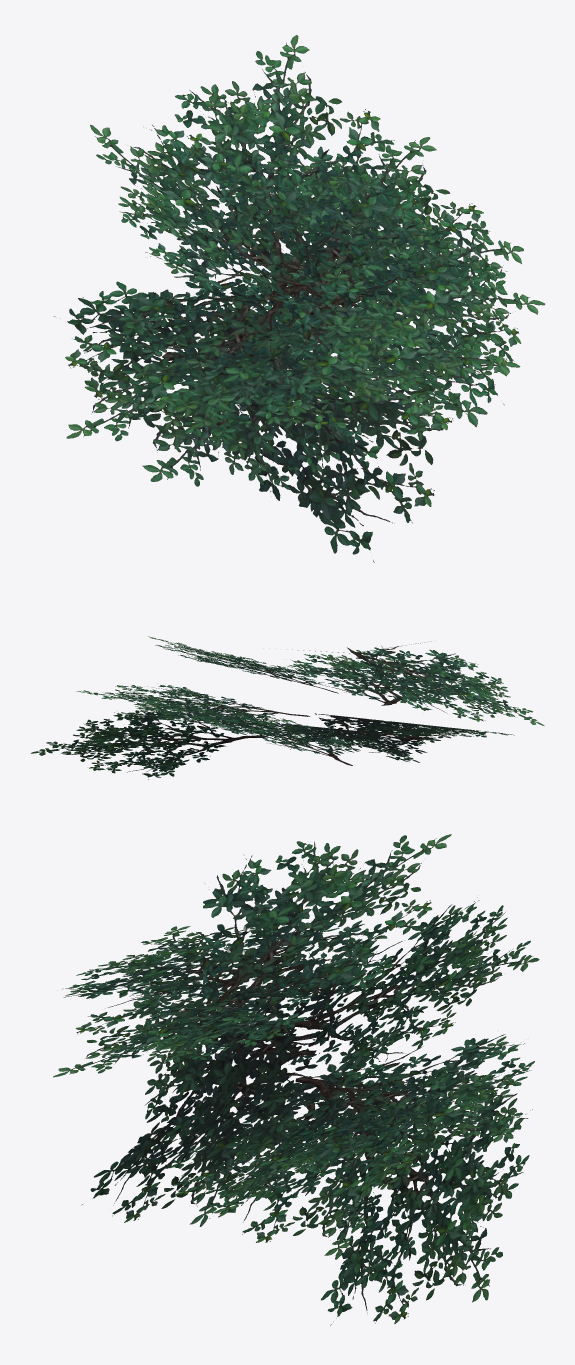
The model's file is yw_wanjiegu_dashu04.FBX.
3 renders of one model, top to bottom at view 1: azimuth 30°, elevation 25°; view 2: azimuth 150°, elevation 25°; view 3: azimuth 270°, elevation 25°, orthographic. The views are drawn at different scales.
Parts seen in each view (by area): view 1: yw_wanjiegu_dashu04; view 2: yw_wanjiegu_dashu04; view 3: yw_wanjiegu_dashu04.
Boxes of the visible parts, <box> form: yw_wanjiegu_dashu04: <box>53,35,545,562</box>; yw_wanjiegu_dashu04: <box>30,636,544,779</box>; yw_wanjiegu_dashu04: <box>53,834,539,1325</box>.
Size of the model in its own units: 521 by 275 by 383.
